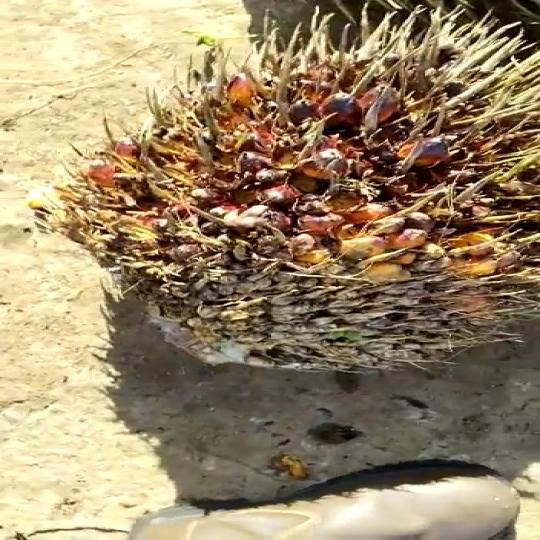terlalu masak: (19, 11, 540, 367)
